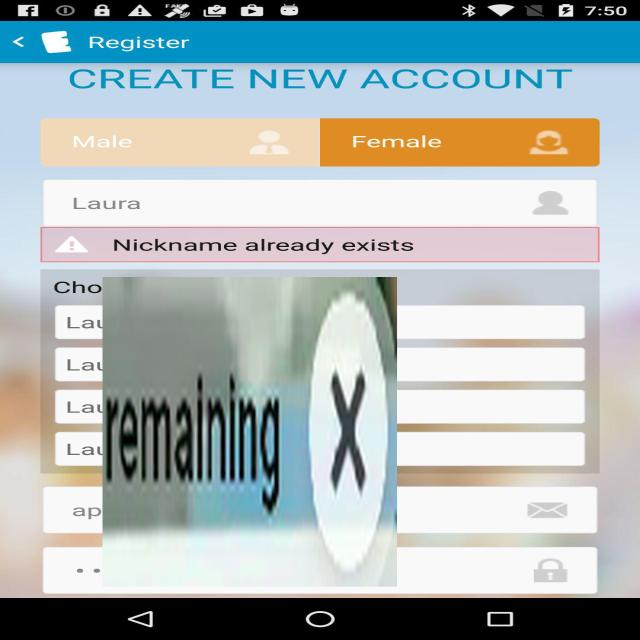misdirection: (103, 277, 397, 587)
